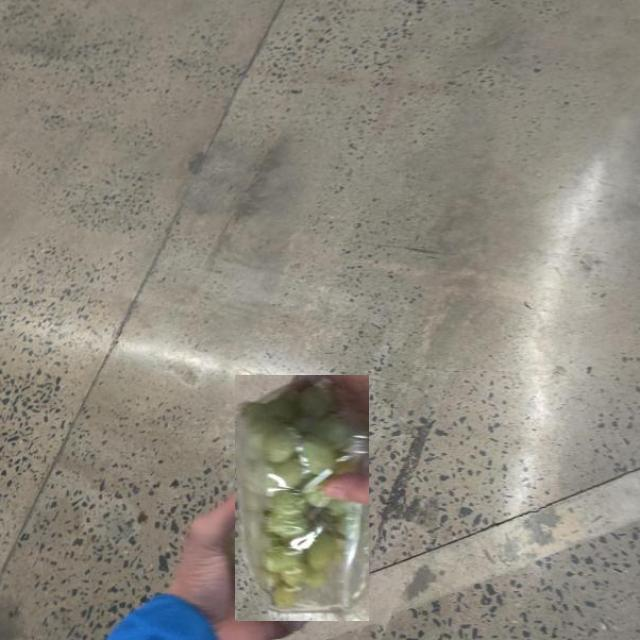Grapes: (234, 374, 369, 621)
